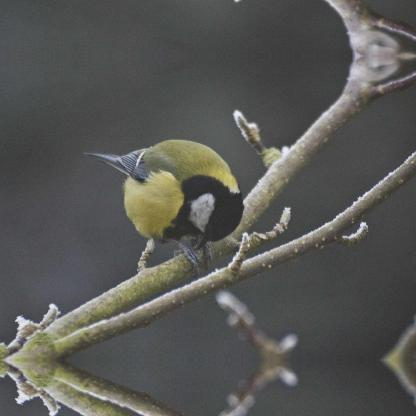Bird: (94, 136, 242, 284)
